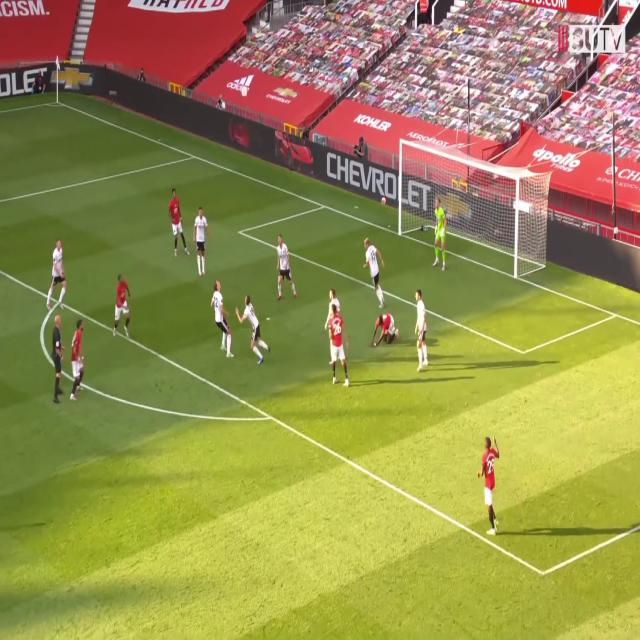Ball: (240, 83, 248, 98)
GoalKeeper: (432, 201, 450, 272)
TEAM 1: (235, 293, 271, 364), (211, 280, 235, 360), (363, 236, 387, 306), (276, 234, 296, 304), (414, 288, 430, 372), (47, 238, 66, 305), (193, 205, 209, 279), (324, 276, 341, 316)
TEAM 2: (477, 436, 500, 536), (325, 298, 350, 388), (68, 320, 86, 398), (114, 273, 134, 340), (167, 190, 185, 256), (371, 312, 398, 346)
